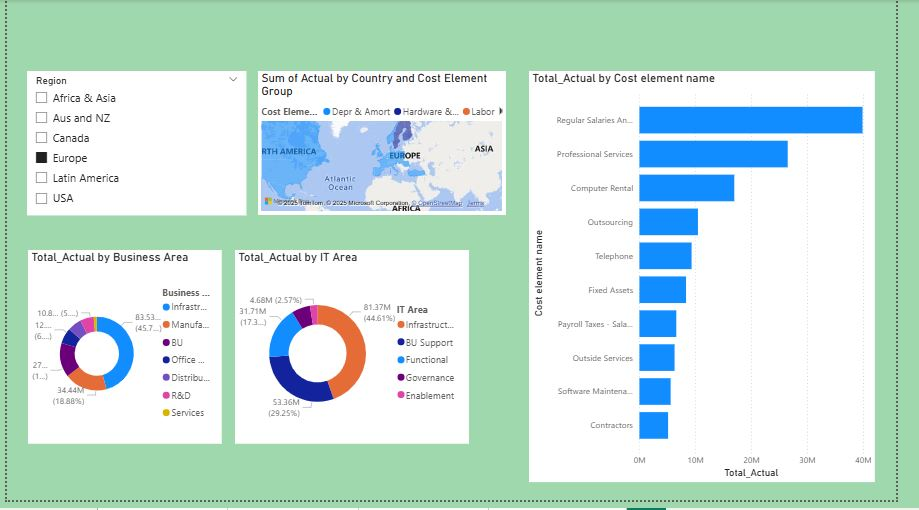

What the dashboard file says about the page in this screenshot:
{"tool":"powerbi","page":{"name":"Cost Breakdown","canvas":[1280,720],"ordinal":2},"visuals":[{"type":"donutChart","fields":{"Category":["Data.IT Area"],"Y":["Data.Total_Actual"]},"box":[329,360.3,336.8,278.9],"z":0},{"type":"donutChart","fields":{"Category":["Data.Business Area"],"Y":["Data.Total_Actual"]},"box":[30.2,360,279.4,279.4],"z":1000},{"type":"barChart","fields":{"Category":["Data.Cost element name"],"Y":["Data.Total_Actual"]},"box":[751.7,102.2,498.2,591.8],"z":2000},{"type":"slicer","fields":{"Values":["Data.Region"]},"box":[29.3,102.5,316.3,208],"z":3000},{"type":"filledMap","fields":{"Category":["Future Data.Country","Future Data.Cost element name","Future Data.Cost Element Sub Group"],"Series":["Future Data.Cost Element Group"]},"box":[361.4,102.2,355.7,207.4],"z":3001}]}

Visuals, with their boxes in screenshot pixels (x1, y1, x2, y2), scaled from the page's 1280x720 canvas onto the 919x510 screenshot:
donutChart - Data.IT Area x Data.Total_Actual: {"x1": 236, "y1": 255, "x2": 478, "y2": 453}
donutChart - Data.Business Area x Data.Total_Actual: {"x1": 22, "y1": 255, "x2": 222, "y2": 453}
barChart - Data.Cost element name x Data.Total_Actual: {"x1": 540, "y1": 72, "x2": 897, "y2": 492}
slicer - Data.Region: {"x1": 21, "y1": 73, "x2": 248, "y2": 220}
filledMap - Future Data.Country x Future Data.Cost element name: {"x1": 259, "y1": 72, "x2": 515, "y2": 219}
